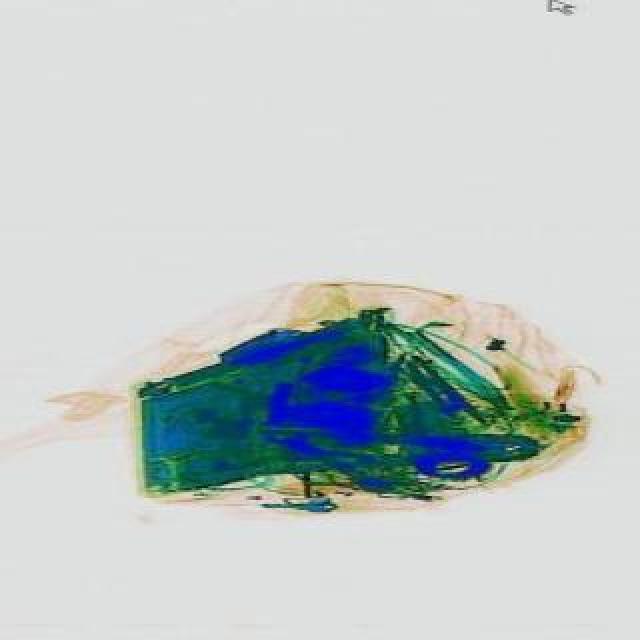scissors: (264, 416, 392, 500)
wrench: (256, 424, 534, 472)
